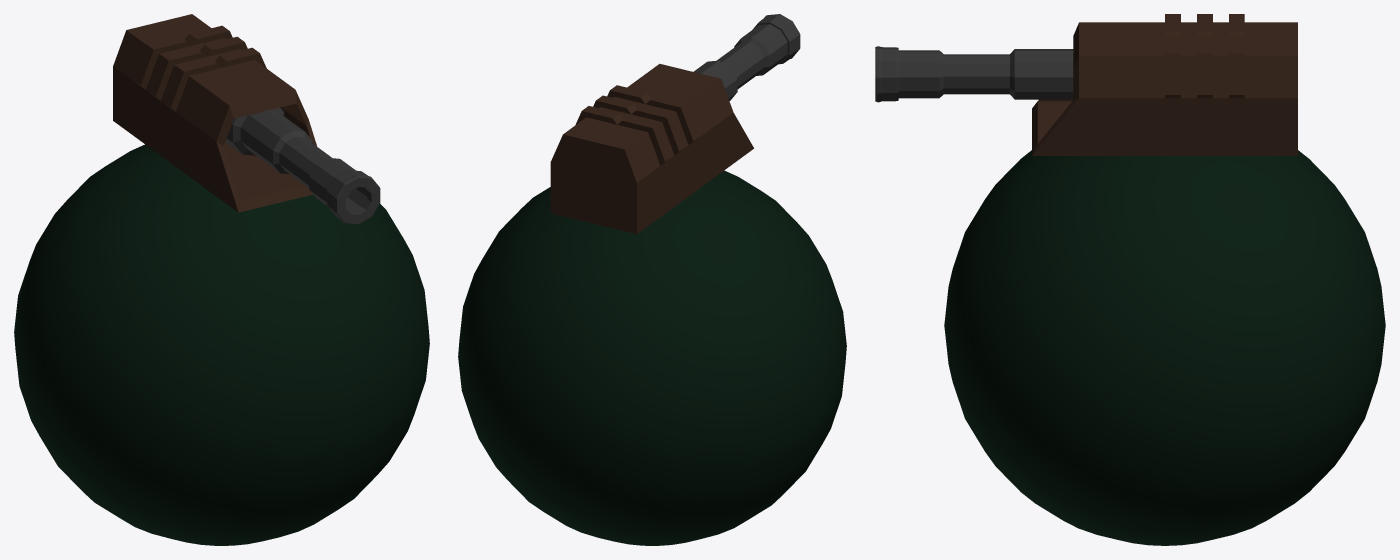
File: Enemies.gltf
The picture shows the model from 3 angles, left to right: view 1: azimuth 30°, elevation 25°; view 2: azimuth 150°, elevation 25°; view 3: azimuth 270°, elevation 25°; orthographic projection. The views are drawn at different scales.
Parts seen in each view (by area): view 1: Sphere, Cube, Cylinder; view 2: Sphere, Cube, Cylinder; view 3: Sphere, Cube, Cylinder.
Boxes of the visible parts, x1,y1,x2,y2 form: Sphere: (14,144,429,545); Cube: (113,14,316,212); Cylinder: (225,107,380,224); Sphere: (458,170,846,545); Cube: (550,63,753,234); Cylinder: (693,14,800,100); Sphere: (944,150,1385,545); Cube: (1032,14,1297,155); Cylinder: (875,46,1073,102).
Bounding box in the file's own units: 1.18 × 1.46 × 1.37.
